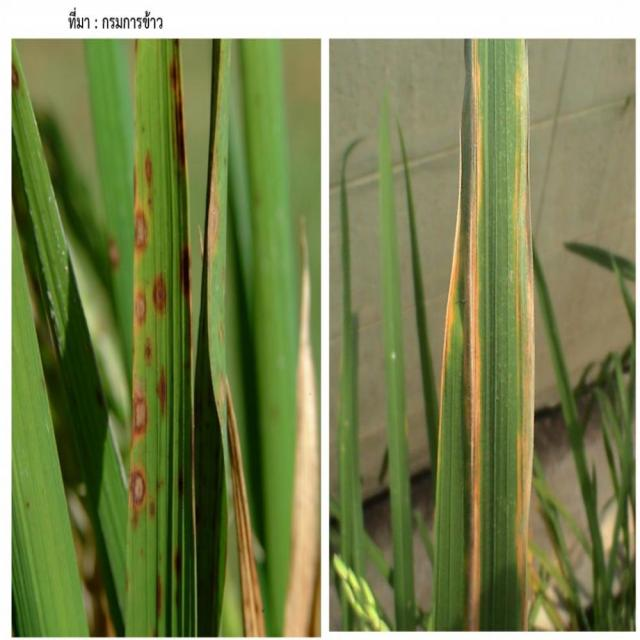blight: (125, 153, 172, 527)
